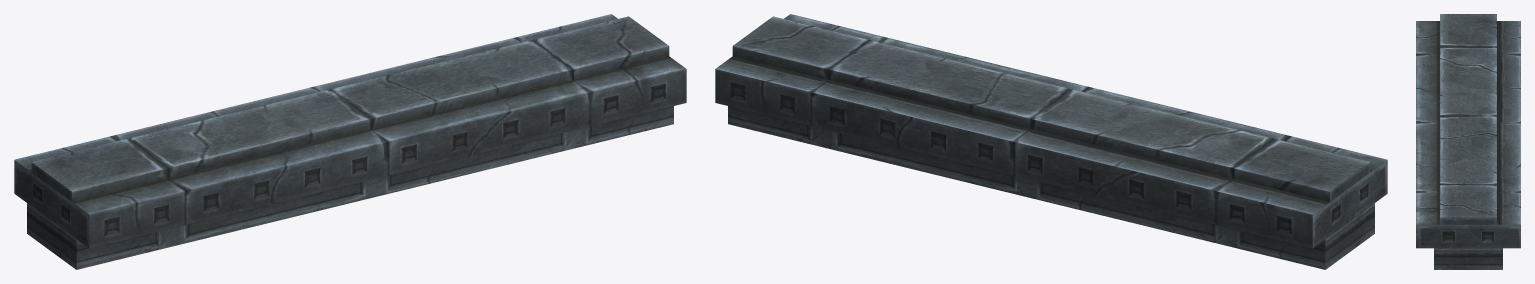
File: B_hengliang.fbx
3 views of the same model, side by side, from view 1: azimuth 30°, elevation 25°; view 2: azimuth 150°, elevation 25°; view 3: azimuth 270°, elevation 25° (orthographic). The views are drawn at different scales.
Visible parts, largest first — view 1: B_hengliang; view 2: B_hengliang; view 3: B_hengliang.
Boxes of the visible parts, x1=… form: B_hengliang: x1=14, y1=14, x2=686, y2=269; B_hengliang: x1=715, y1=14, x2=1387, y2=269; B_hengliang: x1=1416, y1=14, x2=1520, y2=269.
Size of the model in its own units: 484 by 58 by 105.
